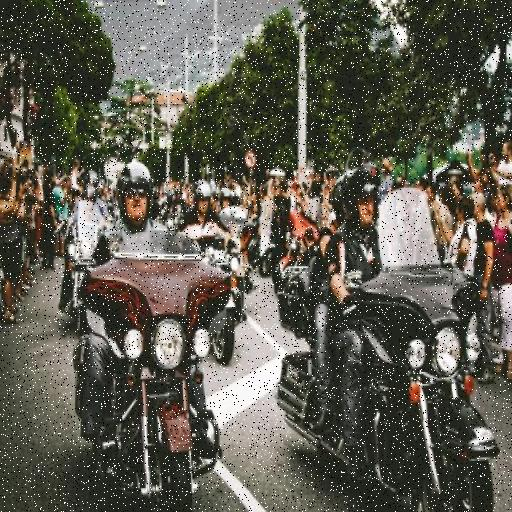Helmet: (117, 162, 152, 226), (341, 163, 379, 221), (332, 175, 345, 224), (194, 180, 211, 205), (221, 188, 231, 203)
Motor: (281, 268, 511, 512), (73, 240, 261, 512)
